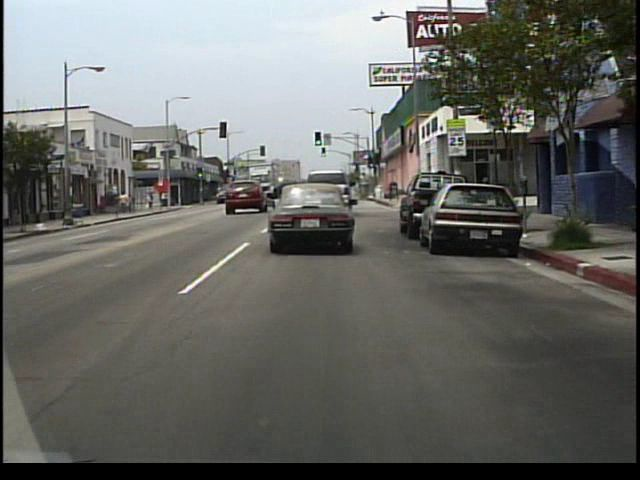person: (125, 192, 134, 216), (148, 190, 156, 210), (134, 194, 140, 214)
